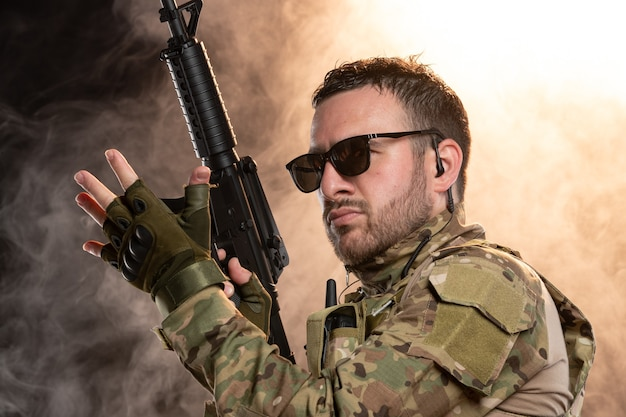gun: (158, 0, 296, 368)
